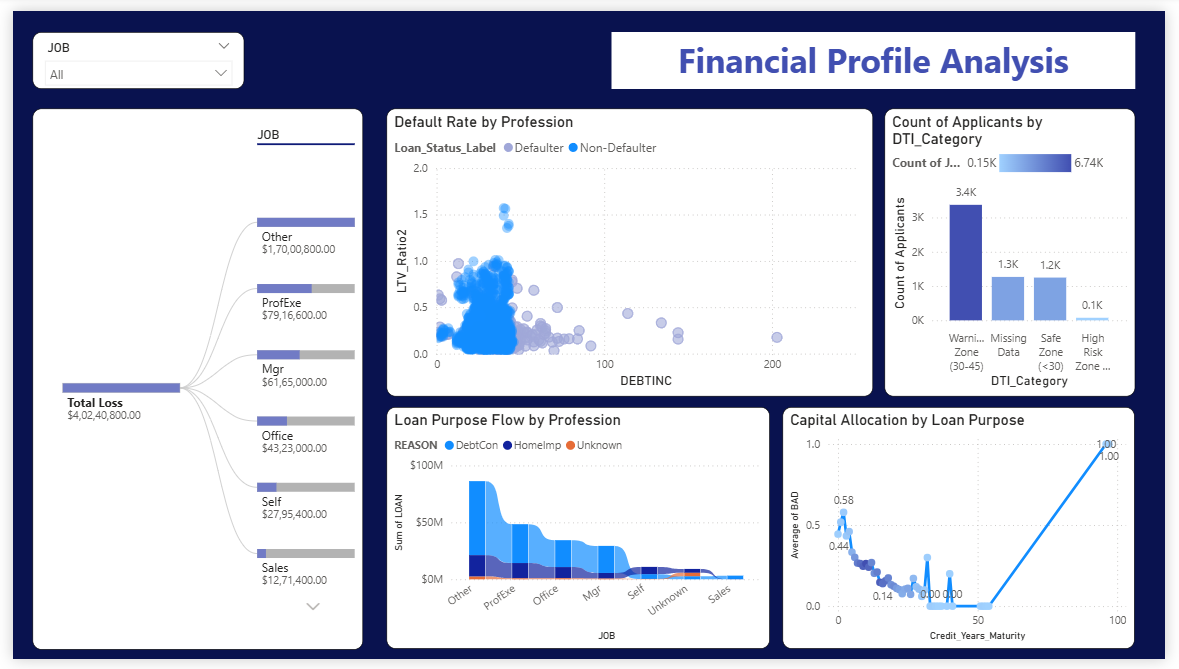

What the dashboard file says about the page in this screenshot:
{"tool":"powerbi","page":{"name":"Customer Profile & Debt Analysis","canvas":[1280,720],"ordinal":2},"visuals":[{"type":"lineChart","title":"Capital Allocation by Loan Purpose","fields":{"Category":["Query1.Credit_Years_Maturity"],"Y":["Avg(Query1.BAD)"]},"box":[855.7,440.6,391.3,268.8],"z":4000},{"type":"clusteredColumnChart","fields":{"Y":["Query1.Count of Applicants"],"Category":["Query1.DTI_Category"]},"box":[968.7,108.2,278.4,319.7],"z":6000},{"type":"decompositionTreeVisual","fields":{"Analyze":["Query1.Total Loss"],"ExplainBy":["Query1.JOB","Query1.DEROG","Query1.DELINQ","Query1.REASON"]},"box":[22.3,108.2,367.4,601.3],"z":7000},{"type":"ribbonChart","title":"Loan Purpose Flow by Profession","fields":{"Category":["Query1.JOB"],"Y":["Sum(Query1.LOAN)"],"Series":["Query1.REASON"]},"box":[415.1,440.6,426.3,268.8],"z":8000},{"type":"slicer","fields":{"Values":["Query1.JOB"]},"box":[22.3,23.9,235.4,63.6],"z":9000},{"type":"textbox","box":[665,23.3,581.7,63.3],"z":9001},{"type":"scatterChart","title":"Default Rate by Profession","fields":{"X":["Query1.DEBTINC"],"Series":["Query1.Loan_Status_Label"],"Y":["Query1.LTV_Ratio2"]},"box":[415.1,108.2,540.8,319.7],"z":9002}]}

Visuals, with their boxes in screenshot pixels (x1, y1, x2, y2), scaled from the page's 1280x720 canvas onto the 1179x669 screenshot:
"Capital Allocation by Loan Purpose" lineChart: bbox=(788, 409, 1149, 659)
clusteredColumnChart - Query1.Count of Applicants x Query1.DTI_Category: bbox=(892, 101, 1149, 398)
decompositionTreeVisual - Query1.Total Loss x Query1.JOB: bbox=(21, 101, 359, 659)
"Loan Purpose Flow by Profession" ribbonChart: bbox=(382, 409, 775, 659)
slicer - Query1.JOB: bbox=(21, 22, 237, 81)
textbox: bbox=(613, 22, 1148, 80)
"Default Rate by Profession" scatterChart: bbox=(382, 101, 880, 398)
